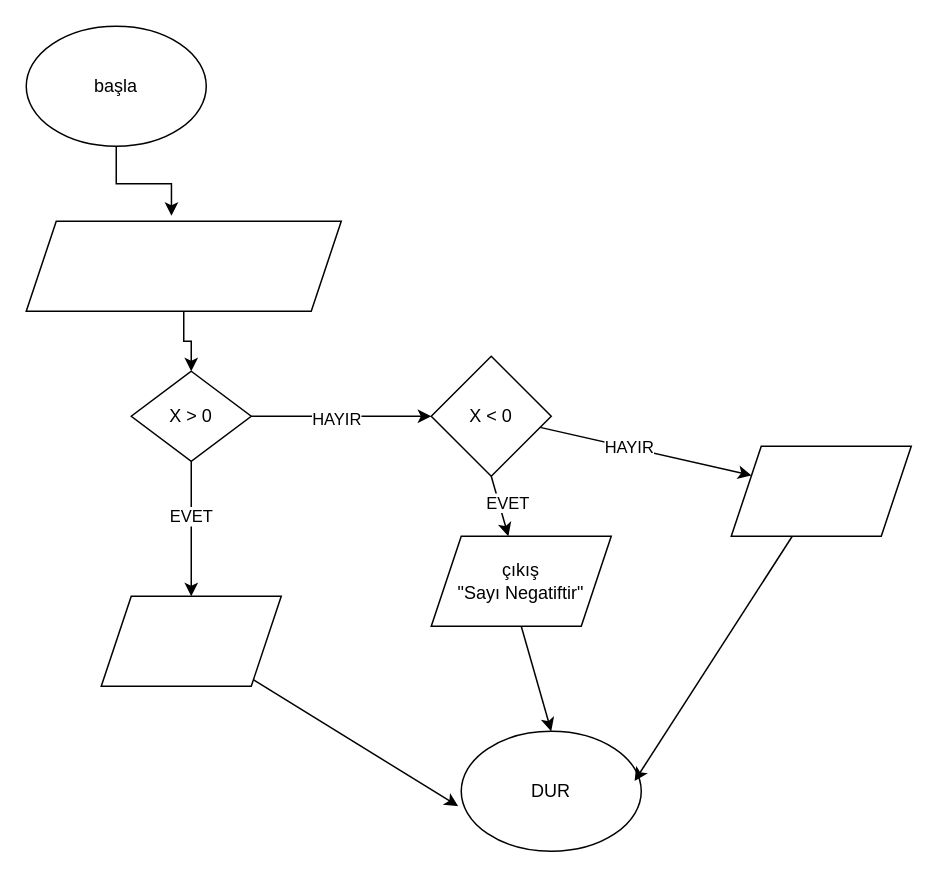
Some shapes in this 938 by 878 pixel diagram are drawn without their labels. Each missing label, with the centre of its shape:
giriş "Sayıyıyı Giriniz :" , X: (x=183, y=265)
çıkış "Sayı Pozitiftir": (x=190, y=640)
çıkış "Sayı Sıfırdır": (x=820, y=490)
